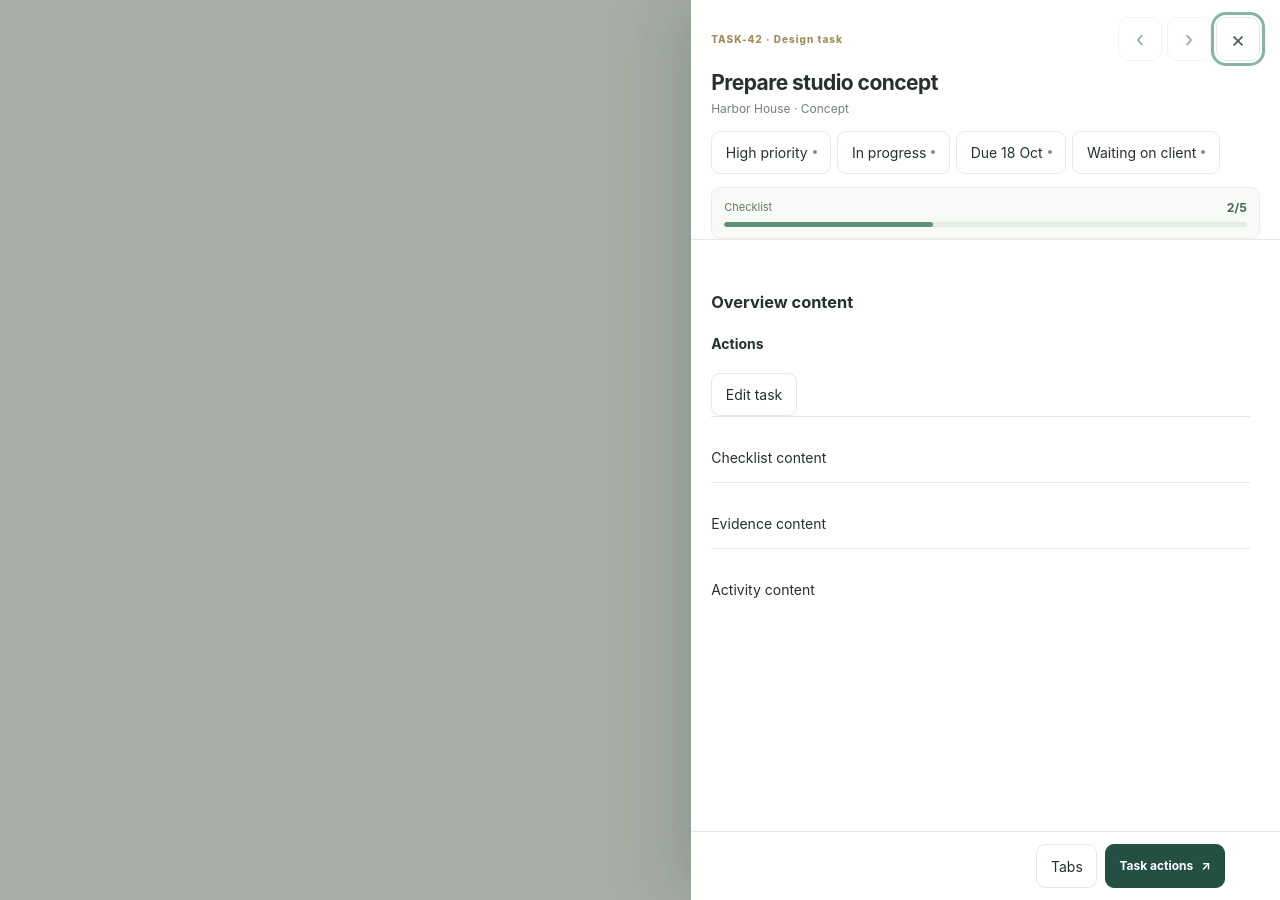
Scenario: TaskDetailDrawer › defaults to the single-scroll layout with all four sections in one column, and keeps the tabbed layout reachable
This screenshot has width=1280, height=900.
Check: the text "Checklist content" is shown, box x1=711 y1=449 x2=826 y2=466
Check: the text "Evidence content" is shown, box x1=711 y1=515 x2=826 y2=532
// The footer toggle reveals the tabbed layout with all four panels mounted.
Click the button "Tabs". click: (1067, 866)
box: x1=1036 y1=844 x2=1097 y2=888
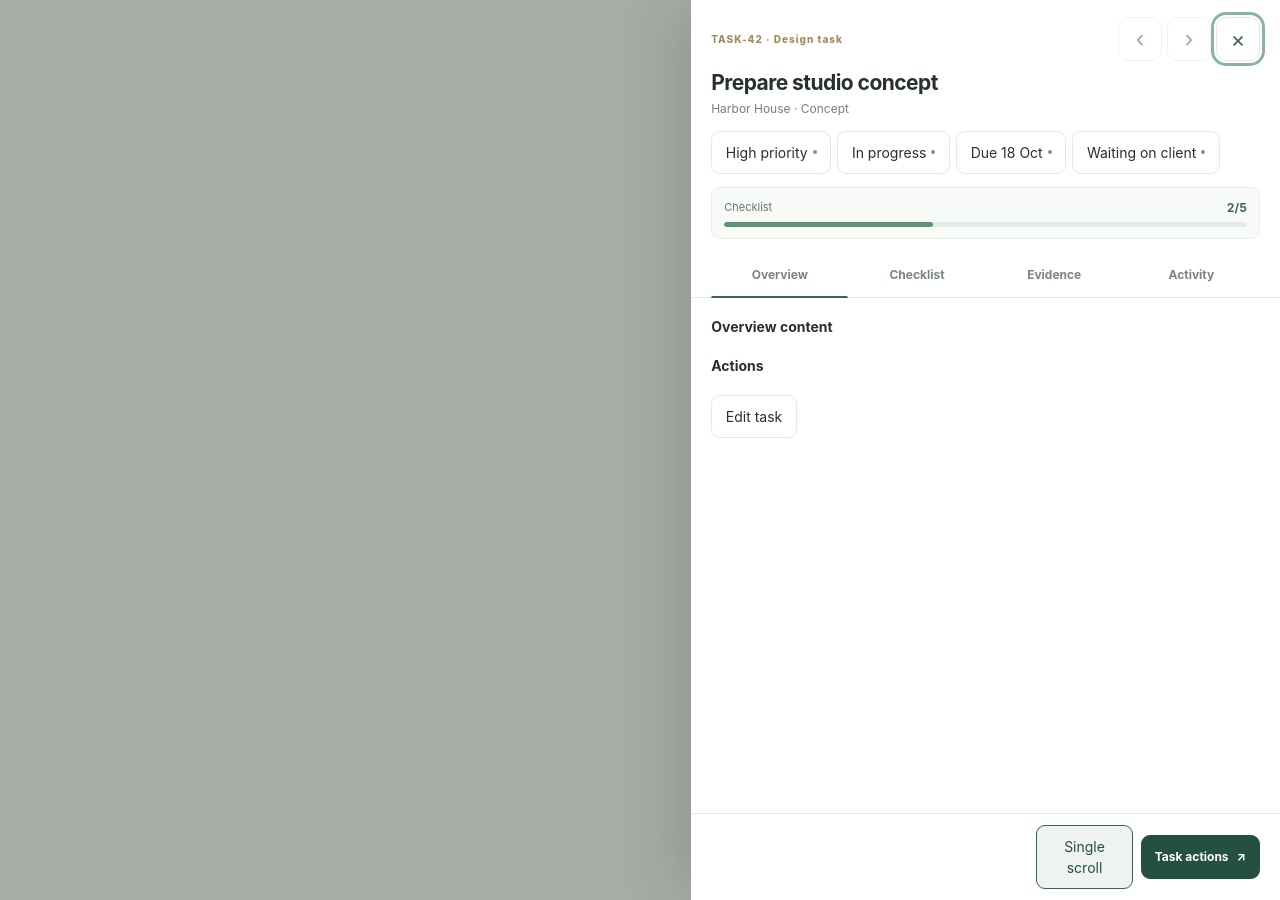
Check: the element named "Task details" is shown, box x1=711 y1=253 x2=1260 y2=297
Click the button "Single scroll". click: (1084, 857)
box: x1=1036 y1=825 x2=1133 y2=889
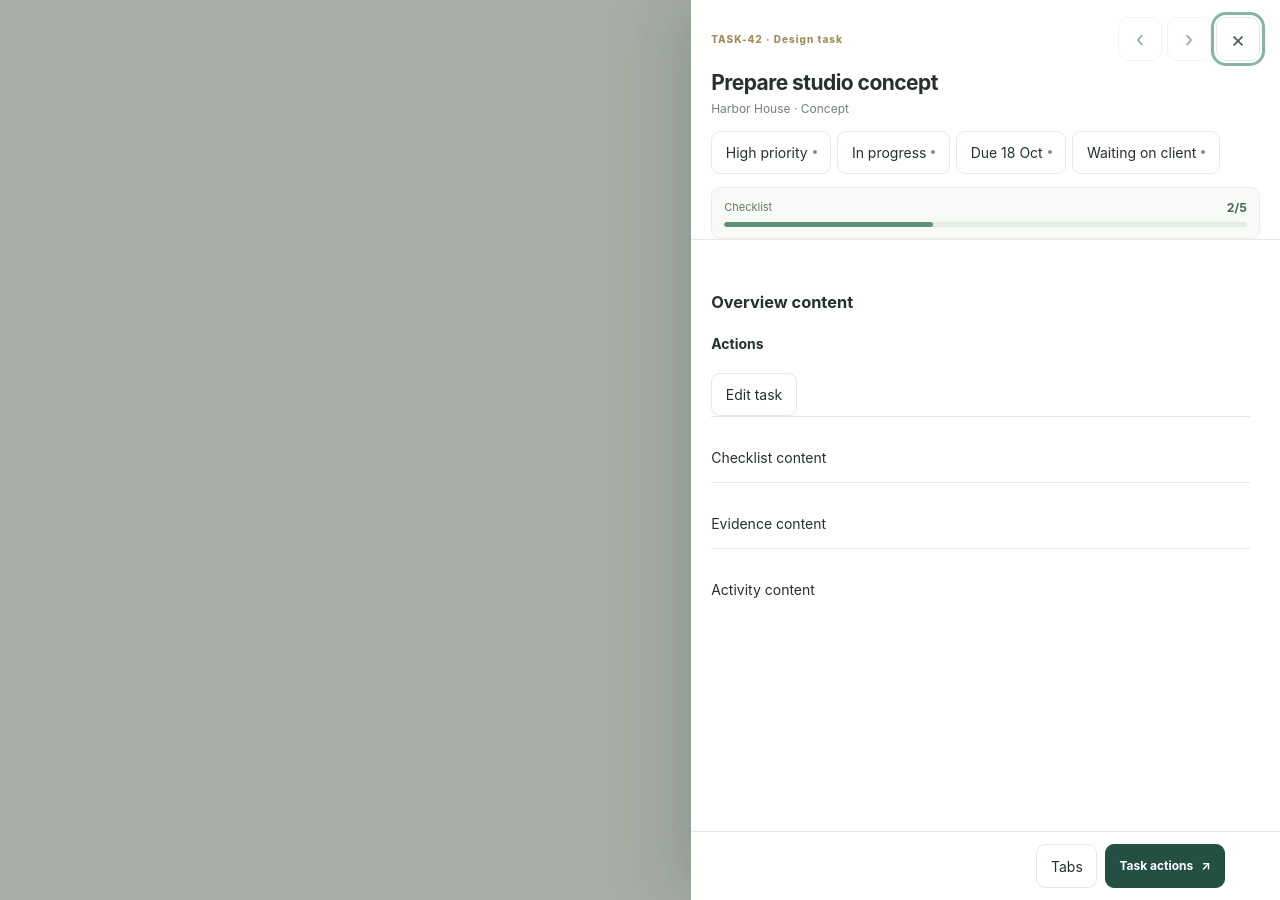
Check: the text "Checklist content" is shown, box x1=711 y1=449 x2=826 y2=466
